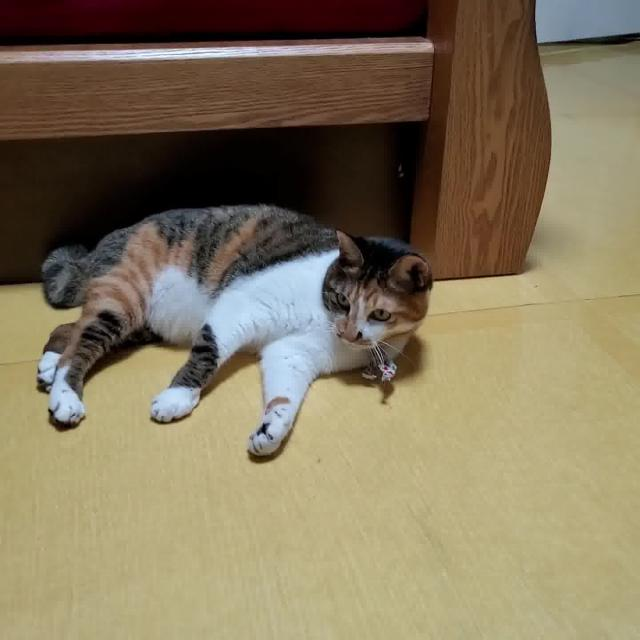cat: (14, 180, 454, 470)
